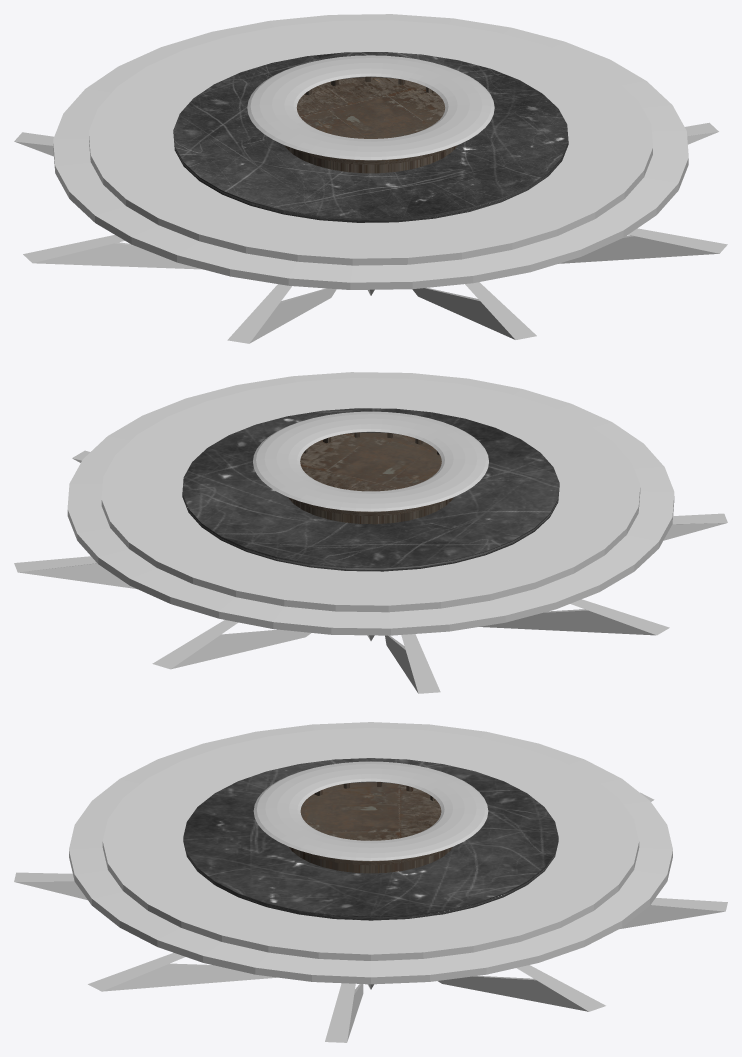
File: MotherShip.fbx
3 renders of one model, top to bottom at view 1: azimuth 30°, elevation 25°; view 2: azimuth 150°, elevation 25°; view 3: azimuth 270°, elevation 25°, orthographic. The views are drawn at different scales.
Visible parts, largest first — view 1: 本体, 上盤1, 上部輪, 上盤2; view 2: 本体, 上盤1, 上部輪, 上盤2; view 3: 本体, 上盤1, 上部輪, 上盤2.
Boxes of the visible parts, x1,y1,x2,y2 form: 本体: (14,14,727,343); 上盤1: (173,52,568,222); 上部輪: (247,55,494,160); 上盤2: (284,76,457,173); 本体: (14,372,727,693); 上盤1: (182,408,559,571); 上部輪: (253,411,488,511); 上盤2: (288,432,453,524); 本体: (14,722,727,1042); 上盤1: (183,758,558,920); 上部輪: (253,761,488,860); 上盤2: (289,782,452,873).
Size of the model in its own units: 13309 by 3740 by 13309.
